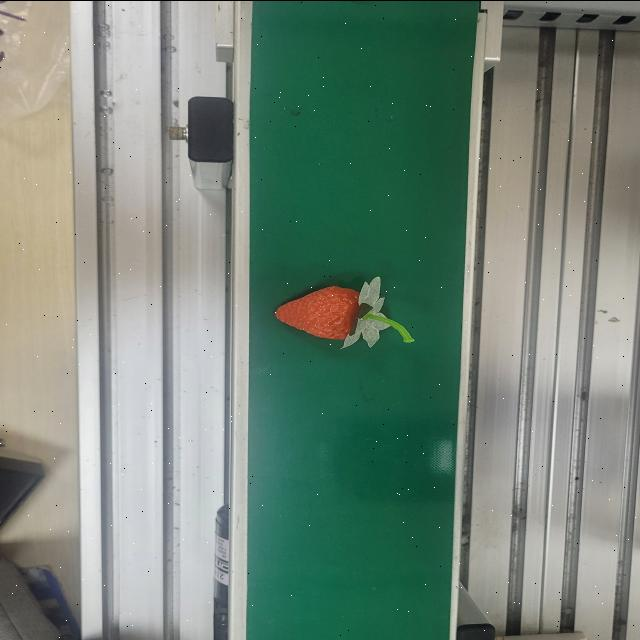Small Ripe Strawberry: (271, 276, 409, 346)
